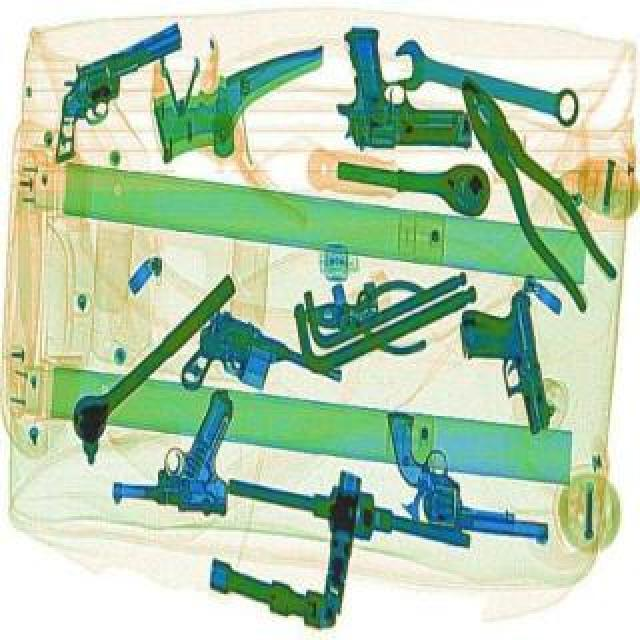gun: (18, 26, 218, 170), (376, 412, 568, 548), (174, 306, 354, 446), (112, 386, 240, 522), (336, 32, 476, 156), (458, 294, 562, 448)
scissors: (384, 40, 590, 140)
wrench: (440, 70, 628, 320), (296, 284, 430, 356)
